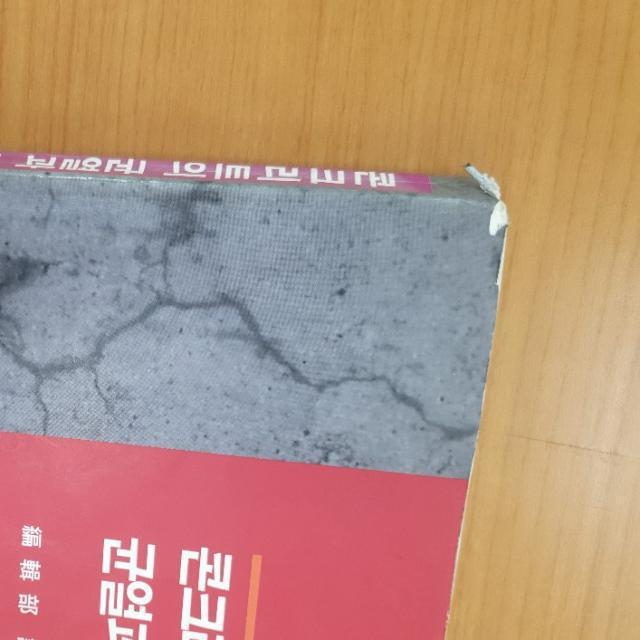Ripped: (449, 153, 520, 293)
Wornout: (440, 449, 479, 639)
